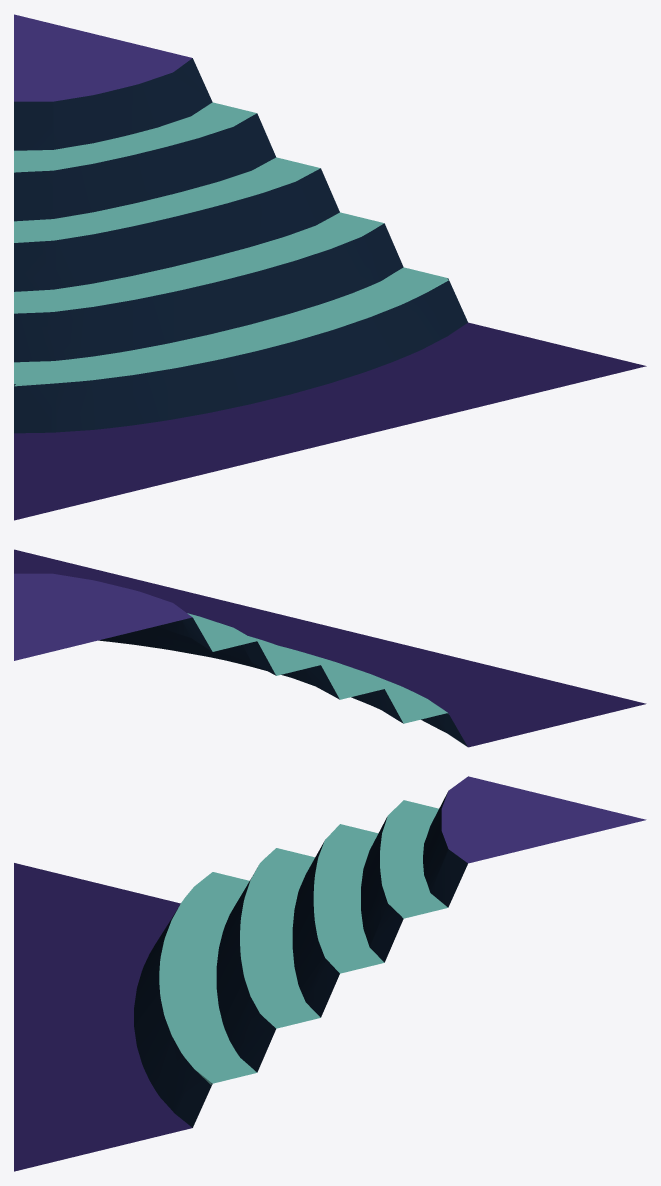
File: MODULE_ALIEN_STAIRS_CORNER_1.fbx
3 views of the same model, one above another, from view 1: azimuth 30°, elevation 25°; view 2: azimuth 150°, elevation 25°; view 3: azimuth 270°, elevation 25° (orthographic).
Parts seen in each view (by area): view 1: MODULE_ALIEN_STAIRS_CORNER_1__export; view 2: MODULE_ALIEN_STAIRS_CORNER_1__export; view 3: MODULE_ALIEN_STAIRS_CORNER_1__export.
Boxes of the visible parts, left/top/right/bottom form: MODULE_ALIEN_STAIRS_CORNER_1__export: left=14, top=14, right=646, bottom=520; MODULE_ALIEN_STAIRS_CORNER_1__export: left=14, top=549, right=646, bottom=747; MODULE_ALIEN_STAIRS_CORNER_1__export: left=14, top=776, right=646, bottom=1171.
Bounding box in the file's own units: 100 × 29.78 × 86.6.
